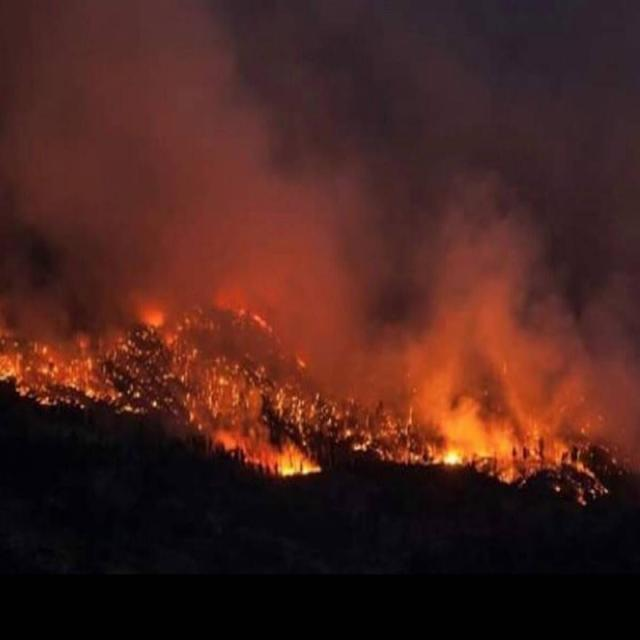Fire: (0, 257, 621, 513)
Smoke: (45, 29, 618, 454)
